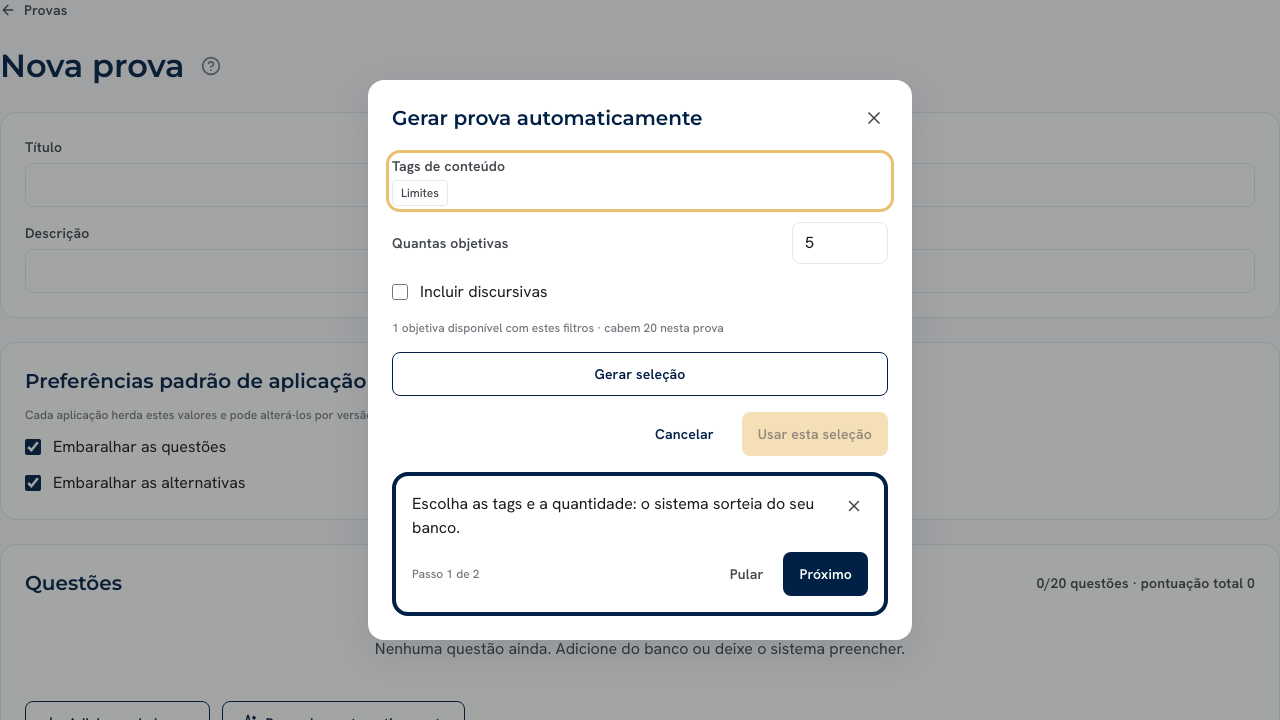
Test: ExamFormPage, the automatic draw › counts only the types the draw will use
expect the text "1 objetiva disponível com estes filtros" is shown: met, box [392,320,724,336]
Click the checkbox labelled "Incluir discursivas" at (400, 292), box [392,284,408,300]
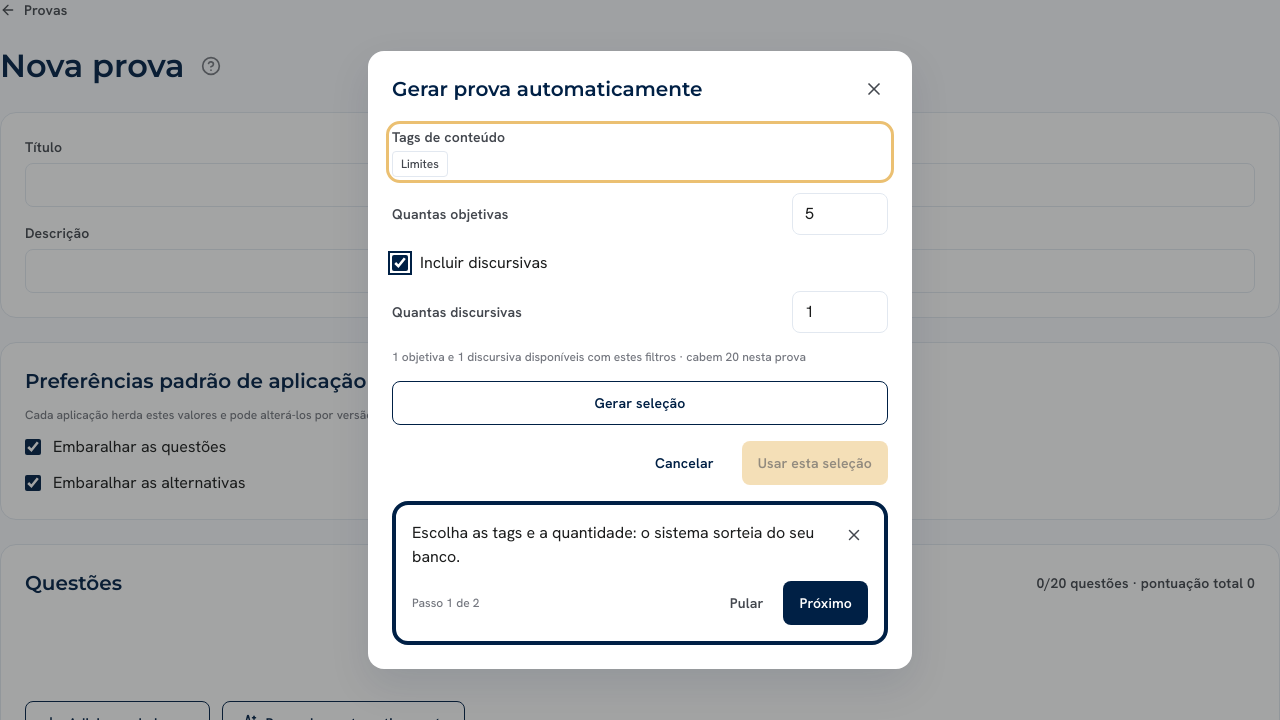
expect the text "1 objetiva e 1 discursiva disponíveis com estes filtros" is shown: met, box [392,349,806,365]
